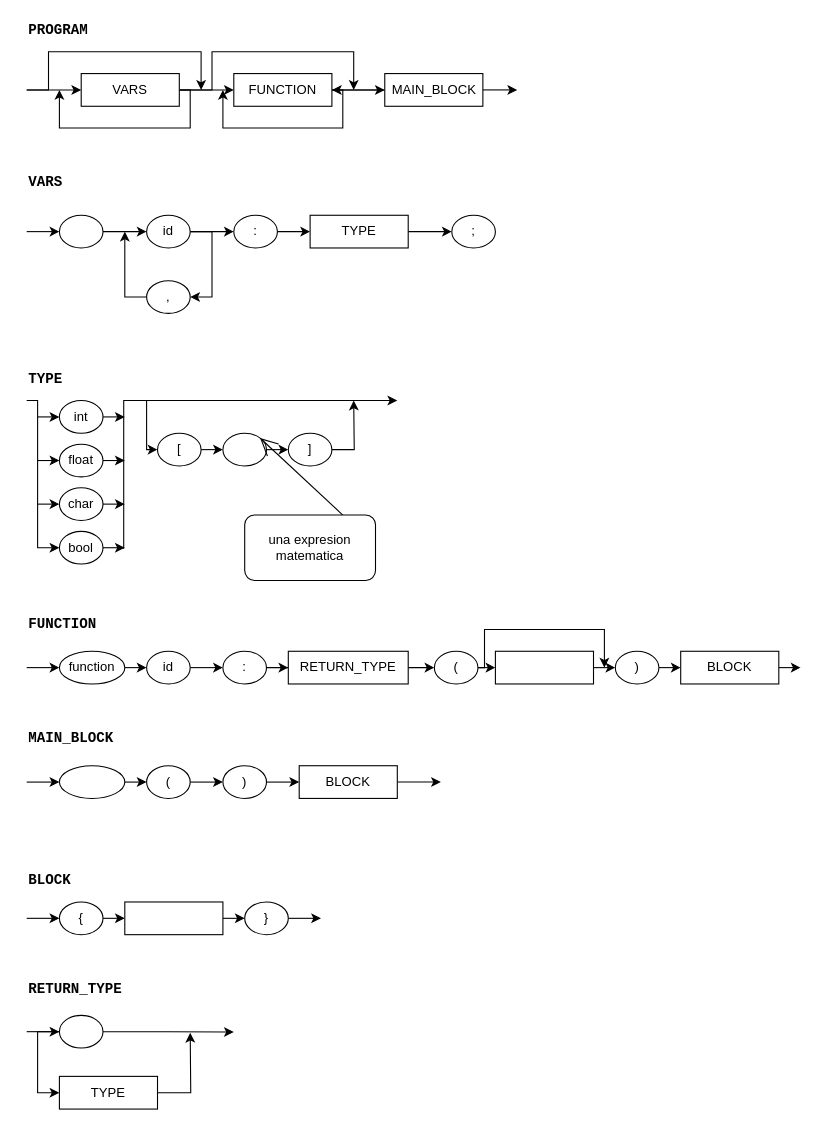
Some shapes in this 828 by 1128 pixel diagram are drawn without their labels. The shapes that lost their labels are listed below. From the top down, each one's centre as x and y in pixels, then its label:
At point 80,231: "let".
At point 244,449: "cte i".
At point 544,667: "PARAMS".
At point 91,781: "main".
At point 173,918: "STATEMENTS".
At point 80,1031: "void".
